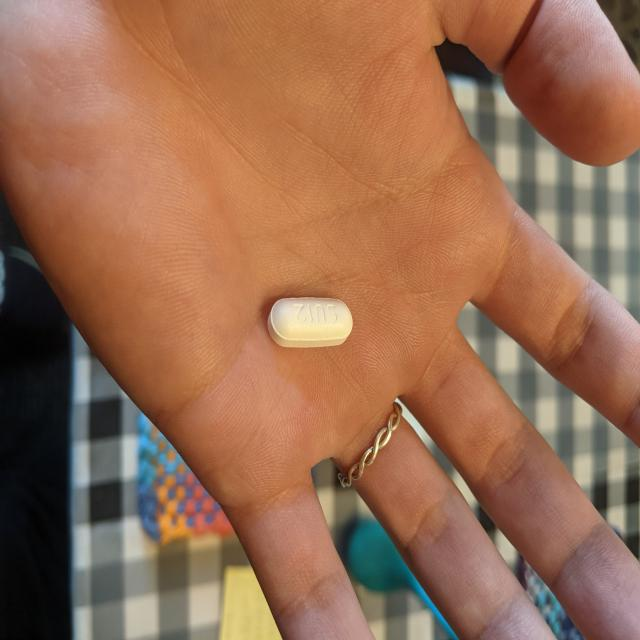non-organic waste: (267, 296, 353, 349)
